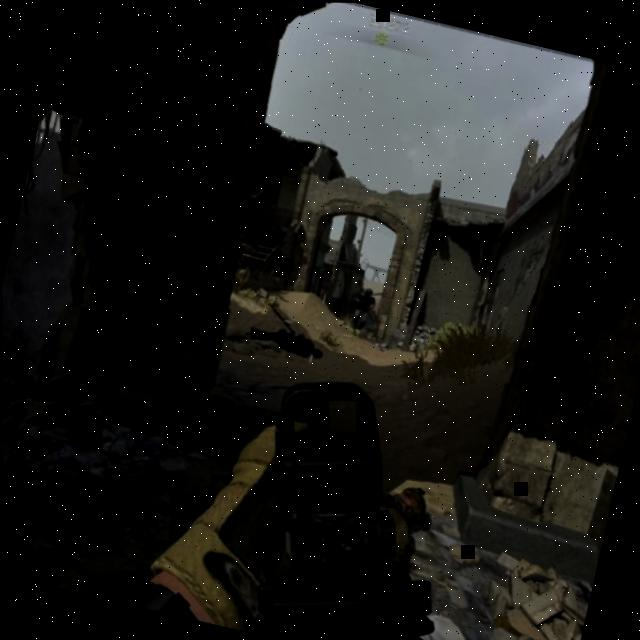MW2_body: (346, 285, 377, 332)
